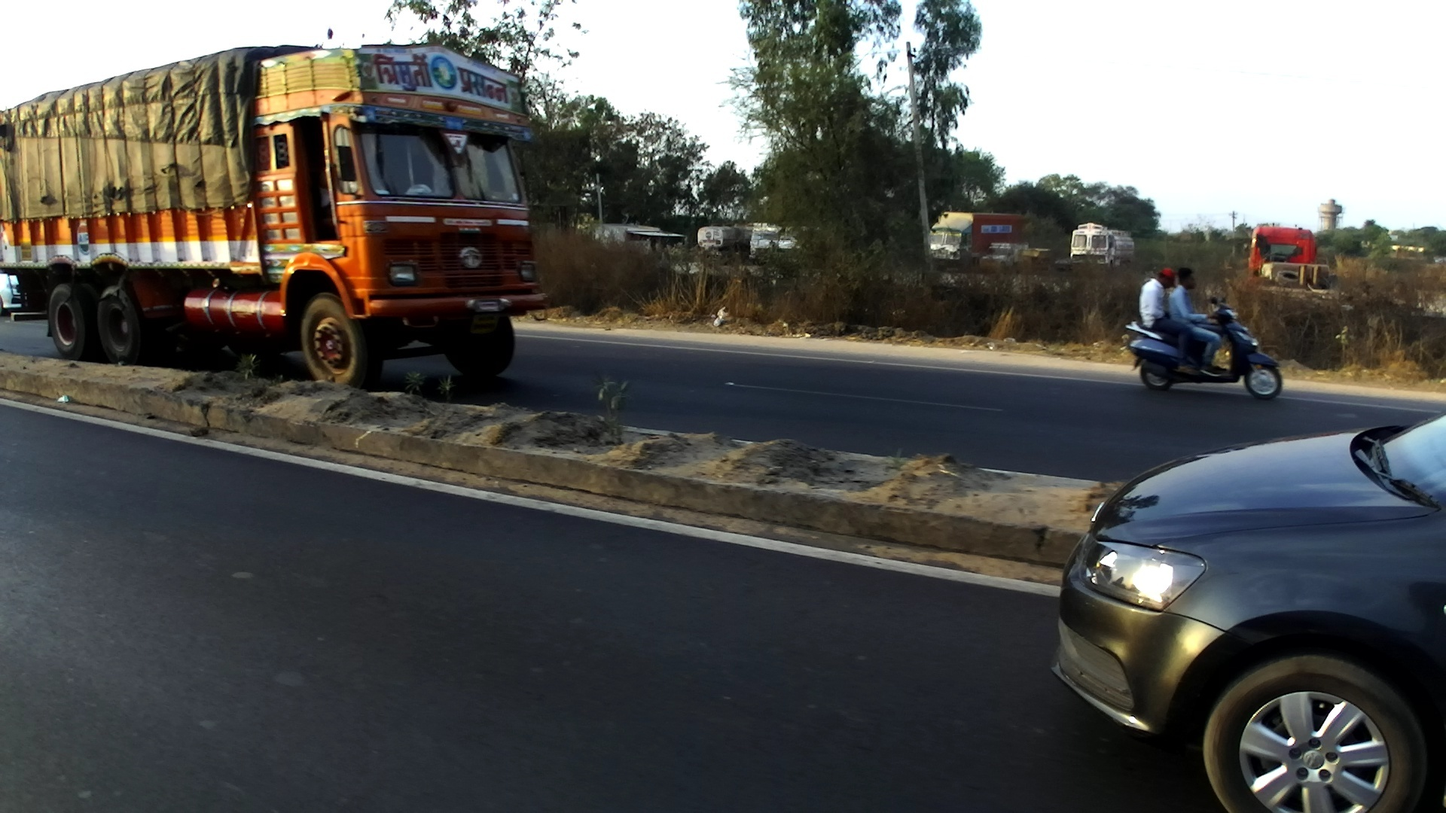car: (1049, 410, 1444, 813)
motorcycle: (1126, 299, 1283, 400)
rider: (1138, 266, 1195, 377), (1171, 263, 1216, 377)
truck: (1, 43, 548, 388), (926, 209, 1026, 270), (1066, 221, 1133, 273), (697, 224, 754, 259), (981, 242, 1029, 274)
vehicle fallback: (1249, 224, 1332, 305), (749, 222, 804, 259), (1, 266, 47, 310), (1022, 248, 1057, 273)
